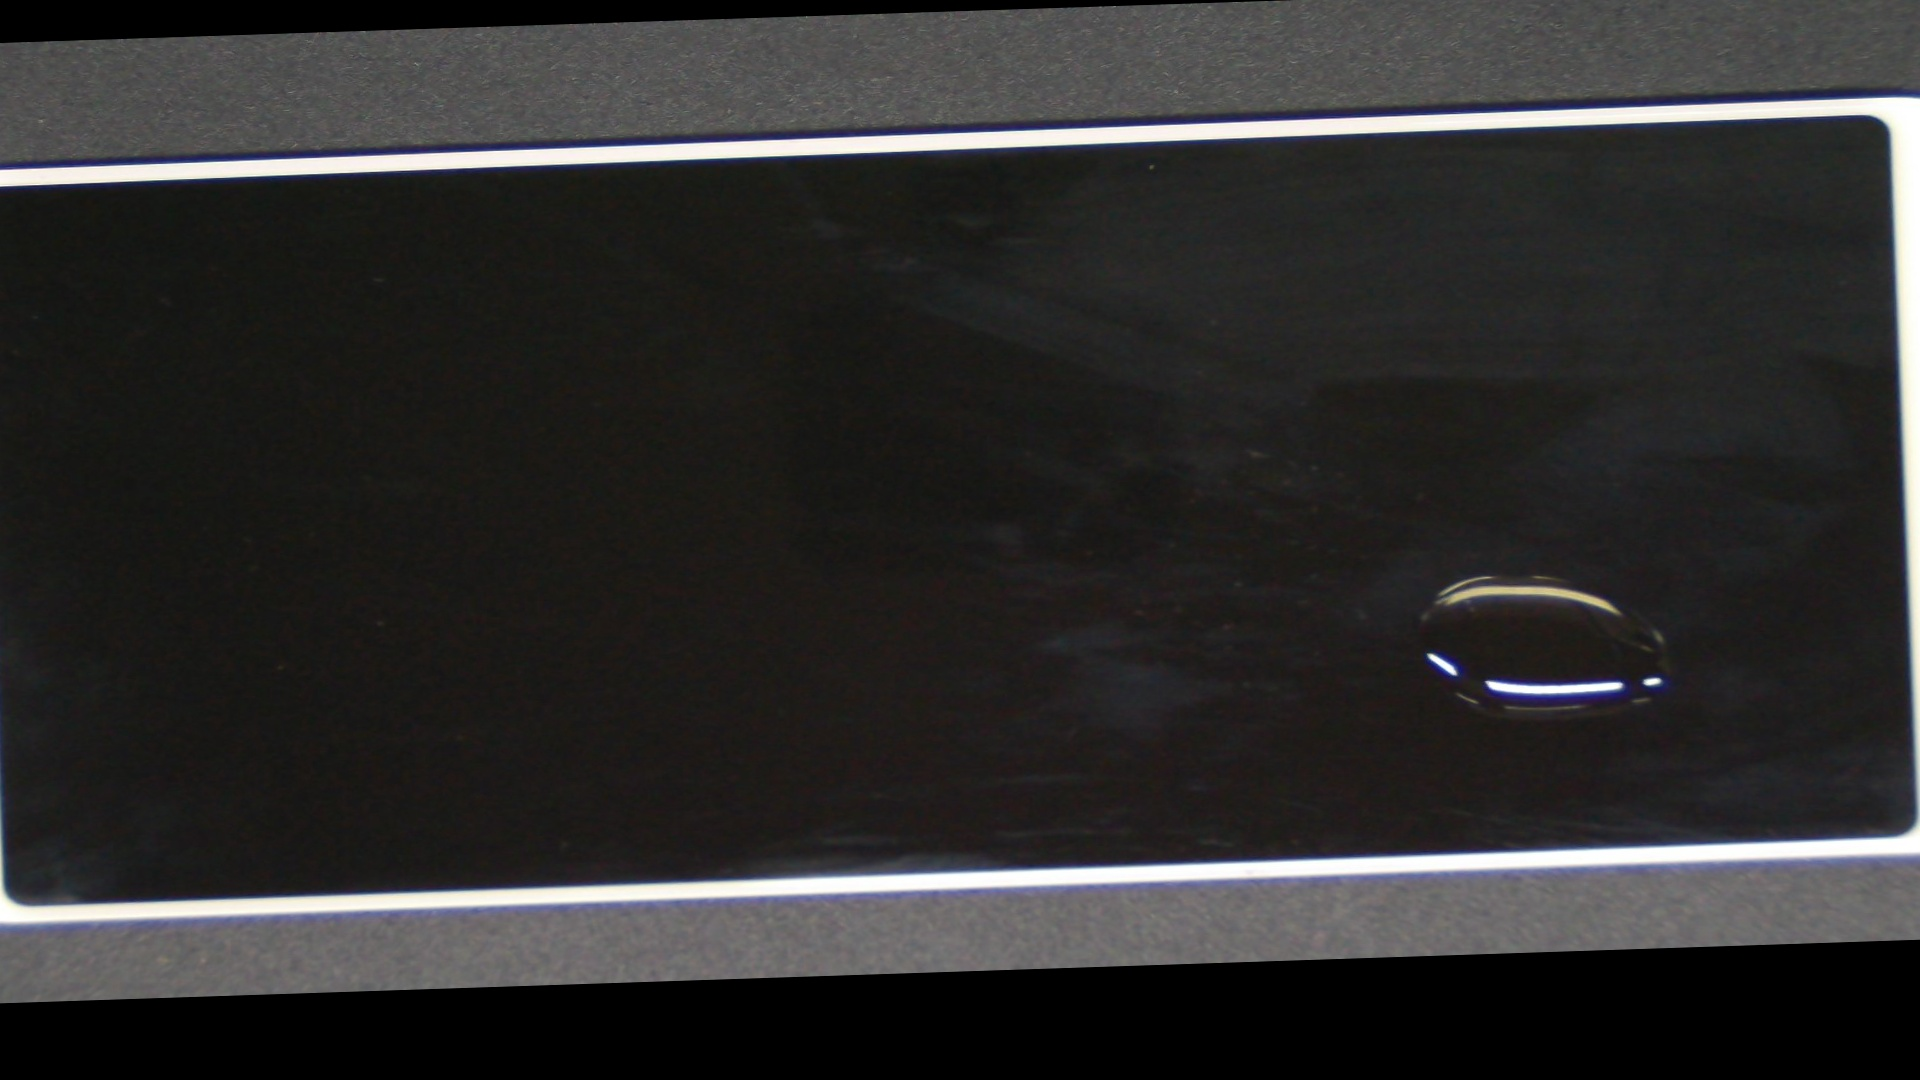oil: (630, 265, 1920, 895)
